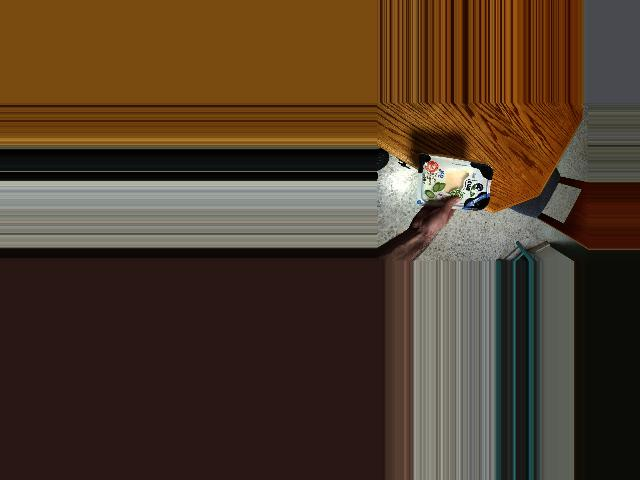cheese: (416, 152, 490, 219)
